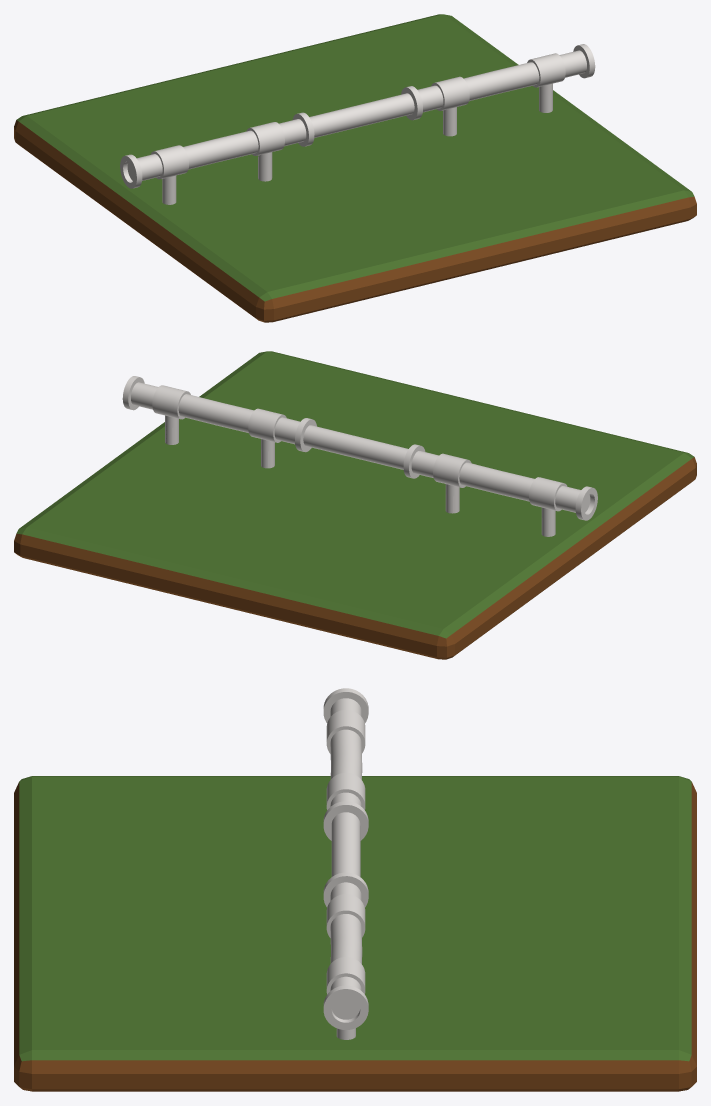
The model's file is Liquid_Pipe.fbx.
3 views of the same model, one above another, from view 1: azimuth 30°, elevation 25°; view 2: azimuth 150°, elevation 25°; view 3: azimuth 270°, elevation 25° (orthographic). The views are drawn at different scales.
Parts seen in each view (by area): view 1: WindTurbine_Lg.004, Liquid_Pipe.001; view 2: WindTurbine_Lg.004, Liquid_Pipe.001; view 3: WindTurbine_Lg.004, Liquid_Pipe.001.
Part boxes in pixels (<box>): WindTurbine_Lg.004: <box>14,14,696,322</box>; Liquid_Pipe.001: <box>120,44,595,204</box>; WindTurbine_Lg.004: <box>14,351,696,659</box>; Liquid_Pipe.001: <box>122,376,597,536</box>; WindTurbine_Lg.004: <box>14,776,696,1091</box>; Liquid_Pipe.001: <box>323,688,368,1039</box>.
Bounding box in the file's own units: 163 × 27.71 × 156.
